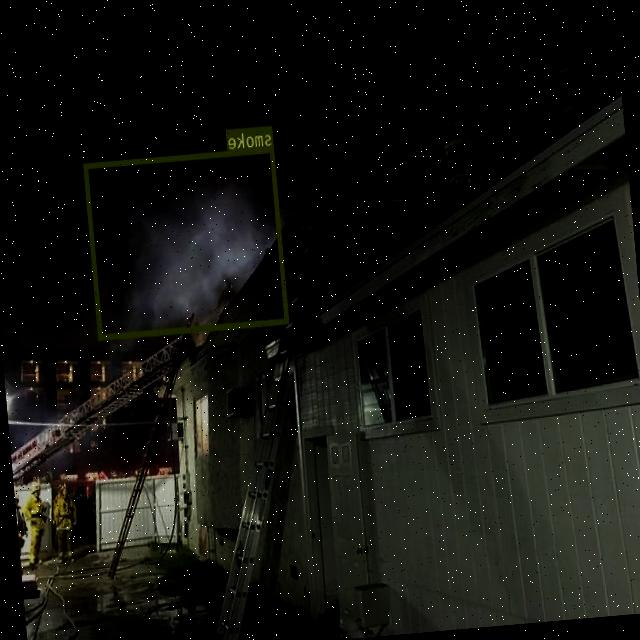smoke: (83, 145, 290, 339)
